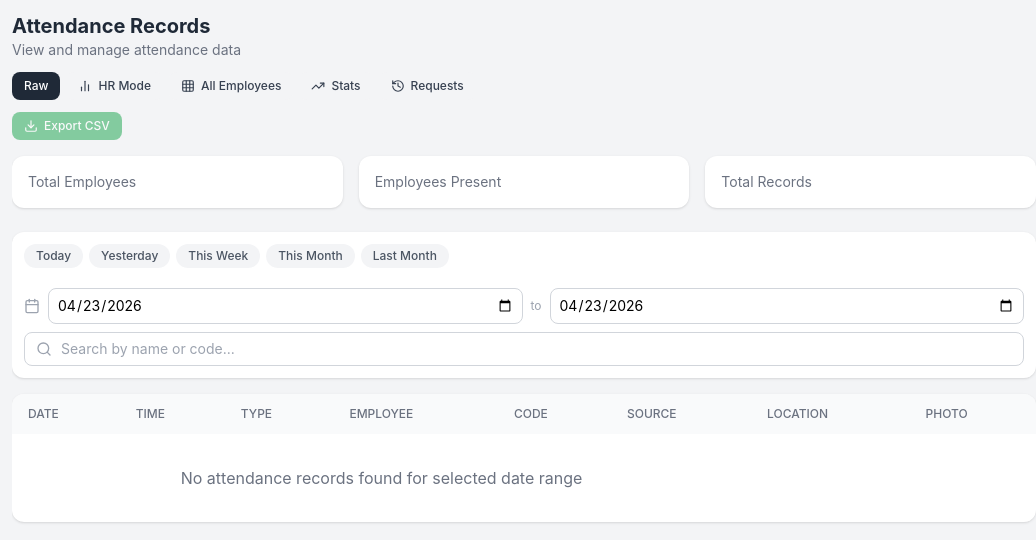
Scenario: UI Test 02 — Attendance Page › HR Mode shows Manual Entry button
This screenshot has width=1036, height=540.
Click the button "HR Mode" at [115, 86], box left=66, top=72, right=163, bottom=100
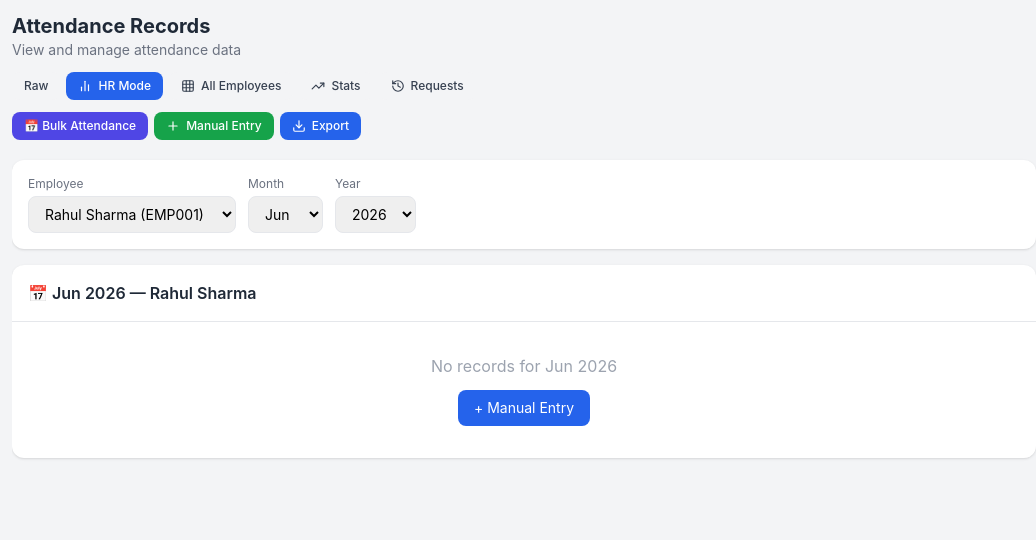
Expected: the button "Manual Entry" is shown, left=154, top=112, right=274, bottom=140
